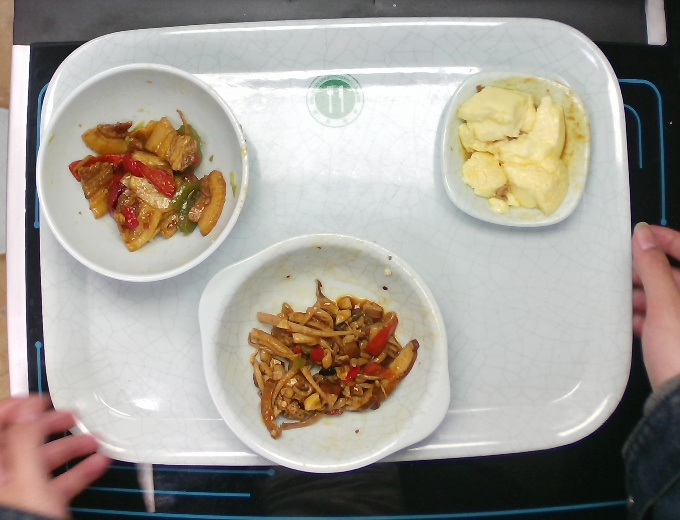JYsf-Fan_Wan: (31, 57, 252, 290)
JYsf-Shuang_Er_Wan: (191, 229, 458, 478)
JYsf-Si_Fang_Die: (436, 62, 596, 237)
